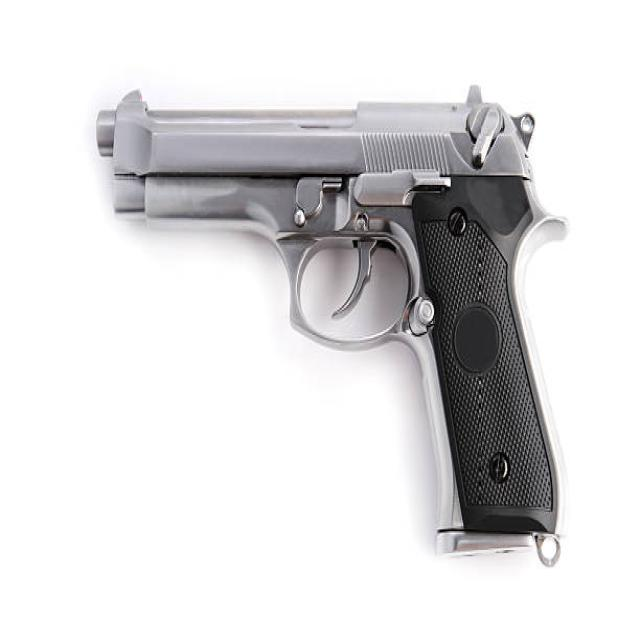pistol: (90, 74, 577, 571)
